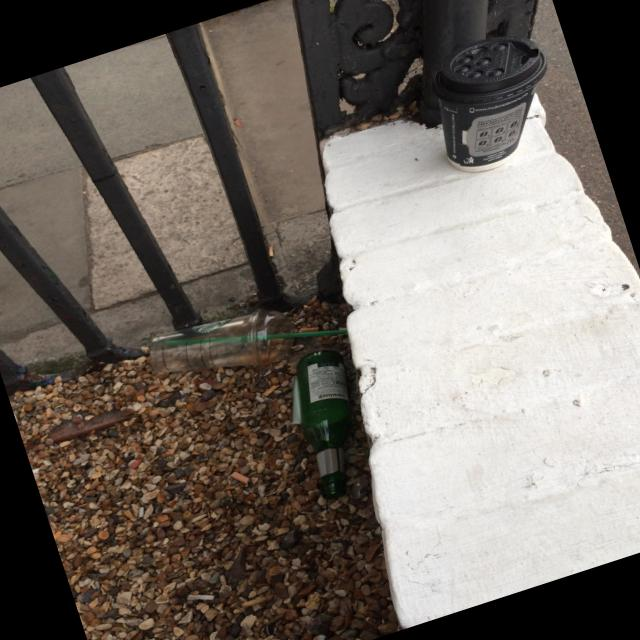less trash: (437, 37, 547, 172), (293, 350, 352, 497)
